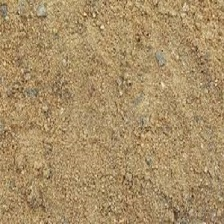sandy_soil: (13, 6, 211, 208)
